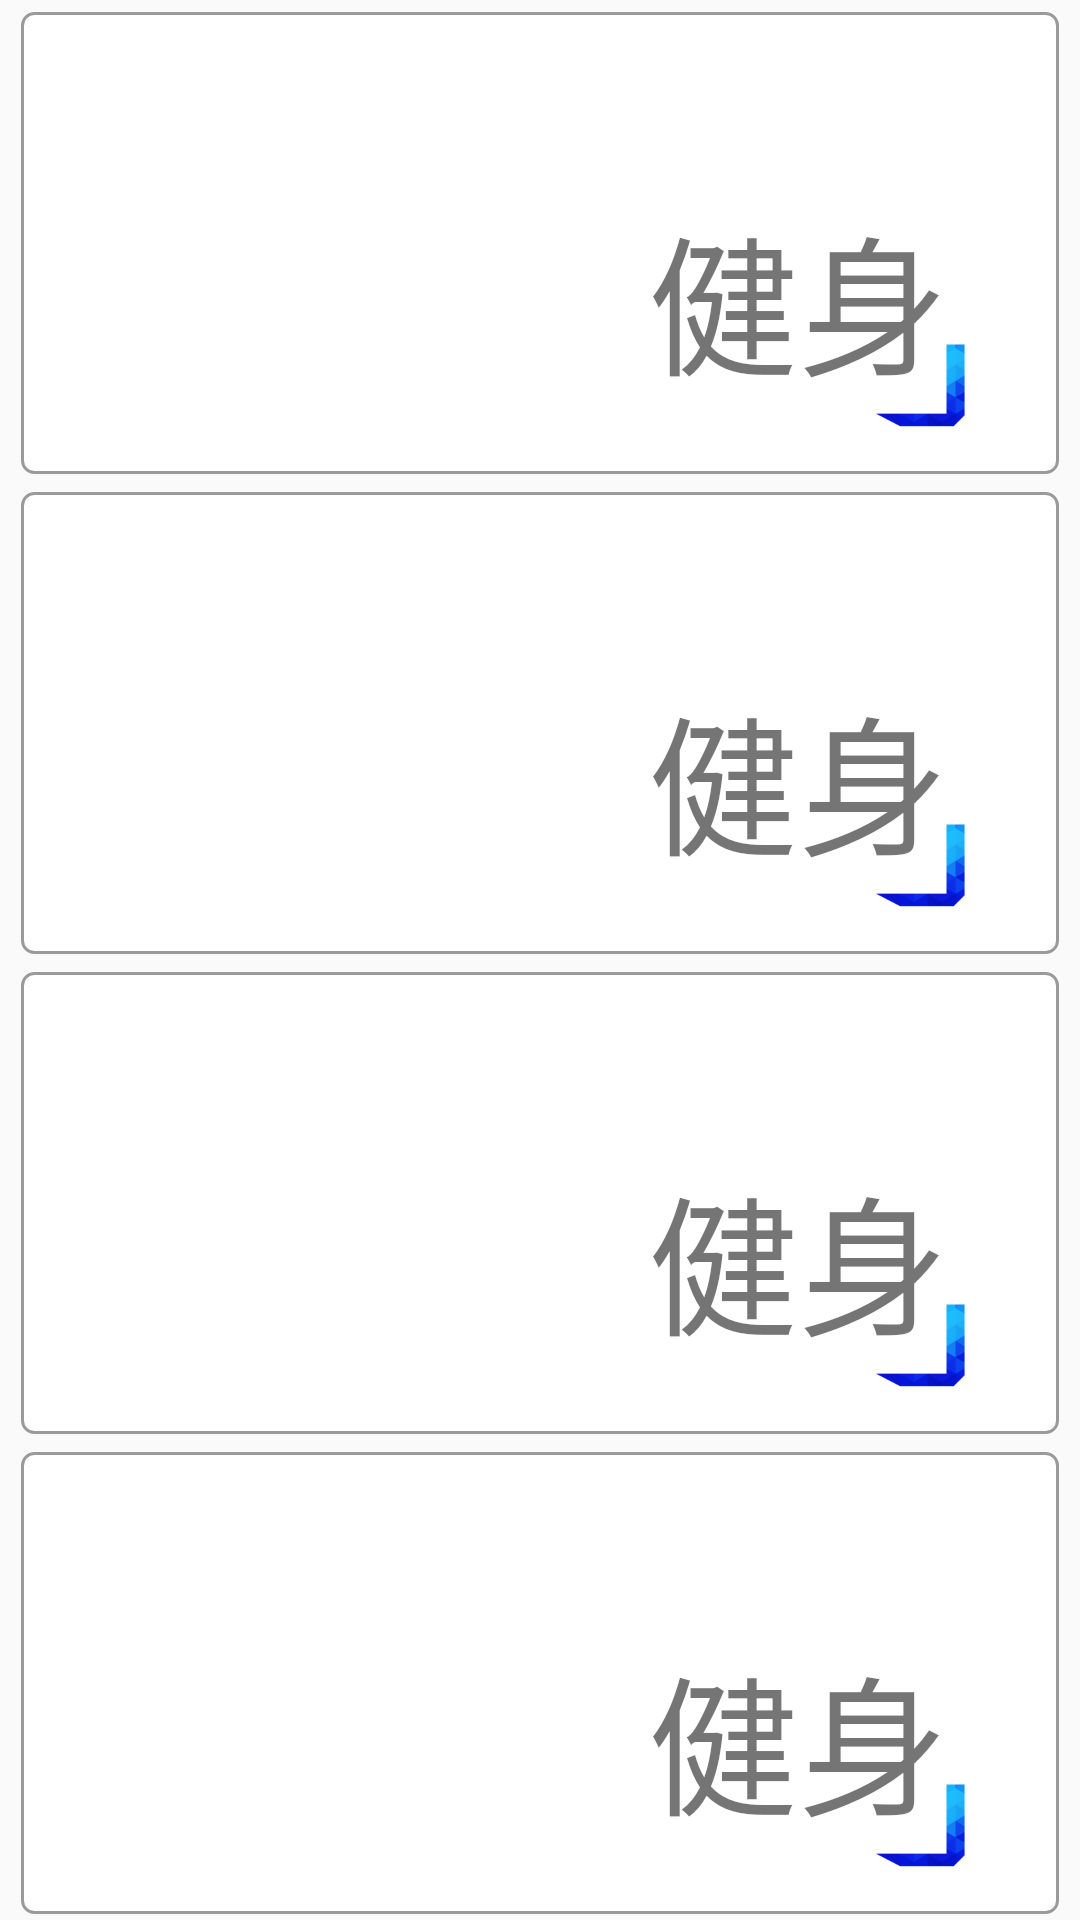

Point at icon controls on the screen. Image size 1080w x 1920h, points as (x=x, y=y).
cornor: (x=920, y=385), (x=920, y=865), (x=920, y=1345), (x=920, y=1825)
